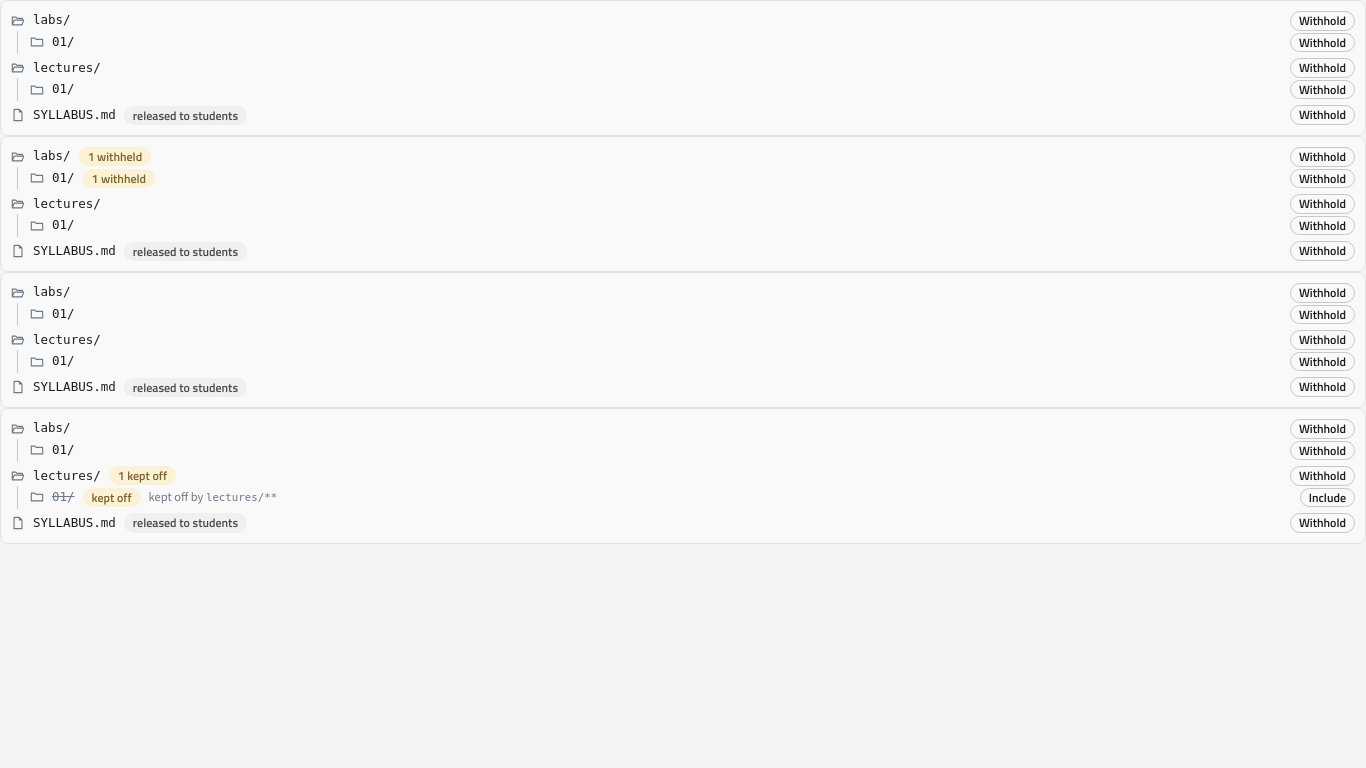
Test: clicking the withhold tree › says a /** rule covers a folder’s files, and uses the tree’s own word
The image size is (1366, 768).
Click the button with aria-label "Include lectures/01/" at (1327, 498), box x1=1300 y1=488 x2=1355 y2=507
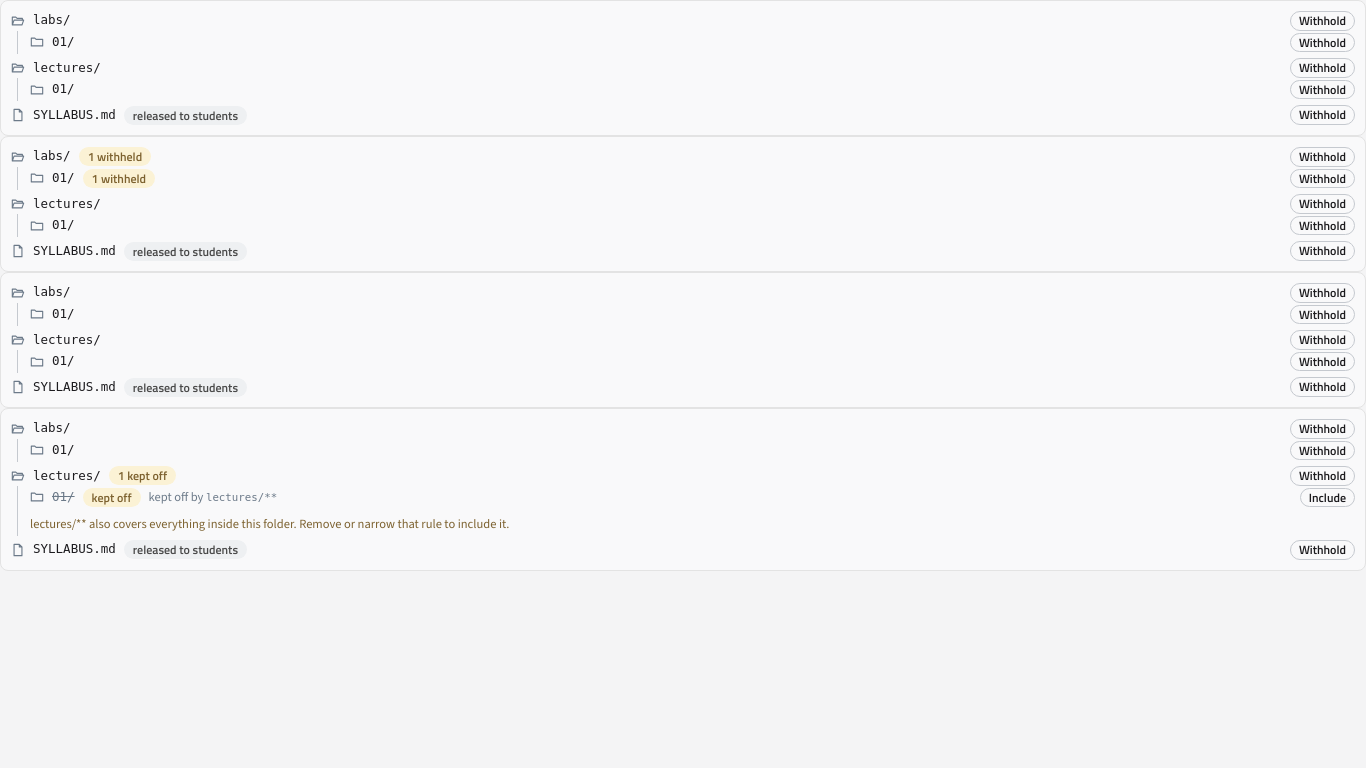
Expected: the text with class "ft-note" shows "lectures/** also covers everything inside this folder. Remove or narrow that rule to include it.", x1=30 y1=515 x2=509 y2=532
